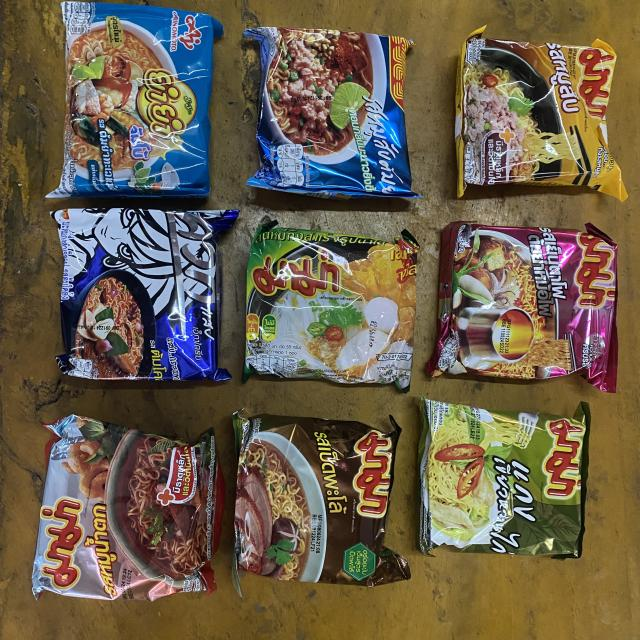plastik: (32, 415, 225, 600), (46, 1, 222, 198), (51, 209, 239, 381), (428, 221, 618, 391), (234, 412, 410, 588), (455, 28, 628, 201), (244, 221, 419, 391), (245, 28, 419, 198), (419, 395, 590, 559)
